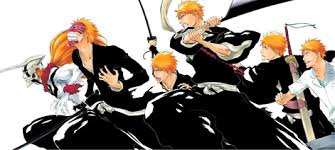Ichigo: (18, 56, 49, 91), (149, 50, 178, 86), (259, 33, 291, 65), (66, 16, 95, 50), (176, 1, 206, 31), (301, 39, 326, 69)
